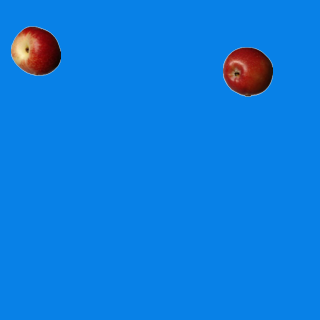Apple Braeburn: (222, 46, 272, 96)
Nectarine: (10, 25, 60, 75)
